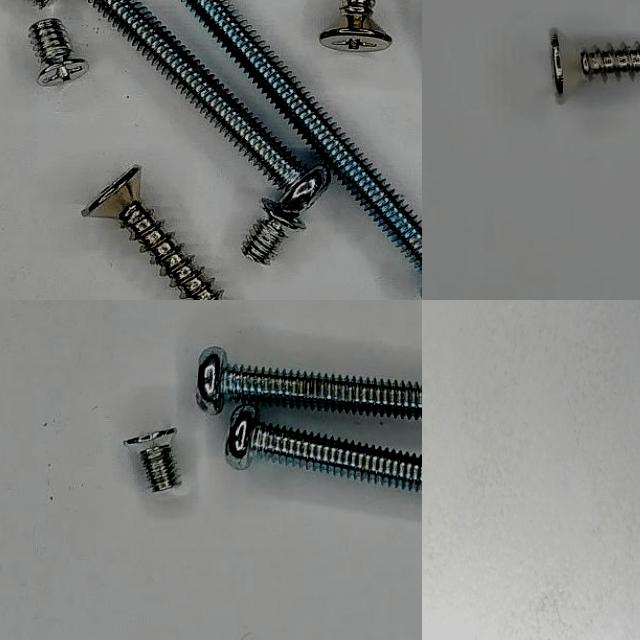Screw: (183, 0, 422, 275), (90, 0, 330, 215), (82, 167, 221, 300), (225, 404, 422, 493), (197, 346, 422, 419), (551, 28, 640, 101), (242, 199, 306, 265), (28, 19, 88, 85), (320, 0, 392, 52), (123, 427, 180, 491)
